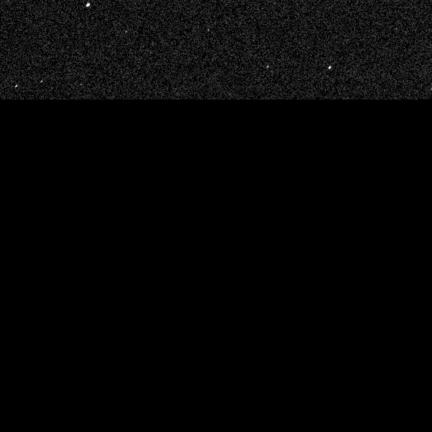blob: (86, 3, 90, 7), (329, 66, 332, 70), (15, 85, 18, 88)
